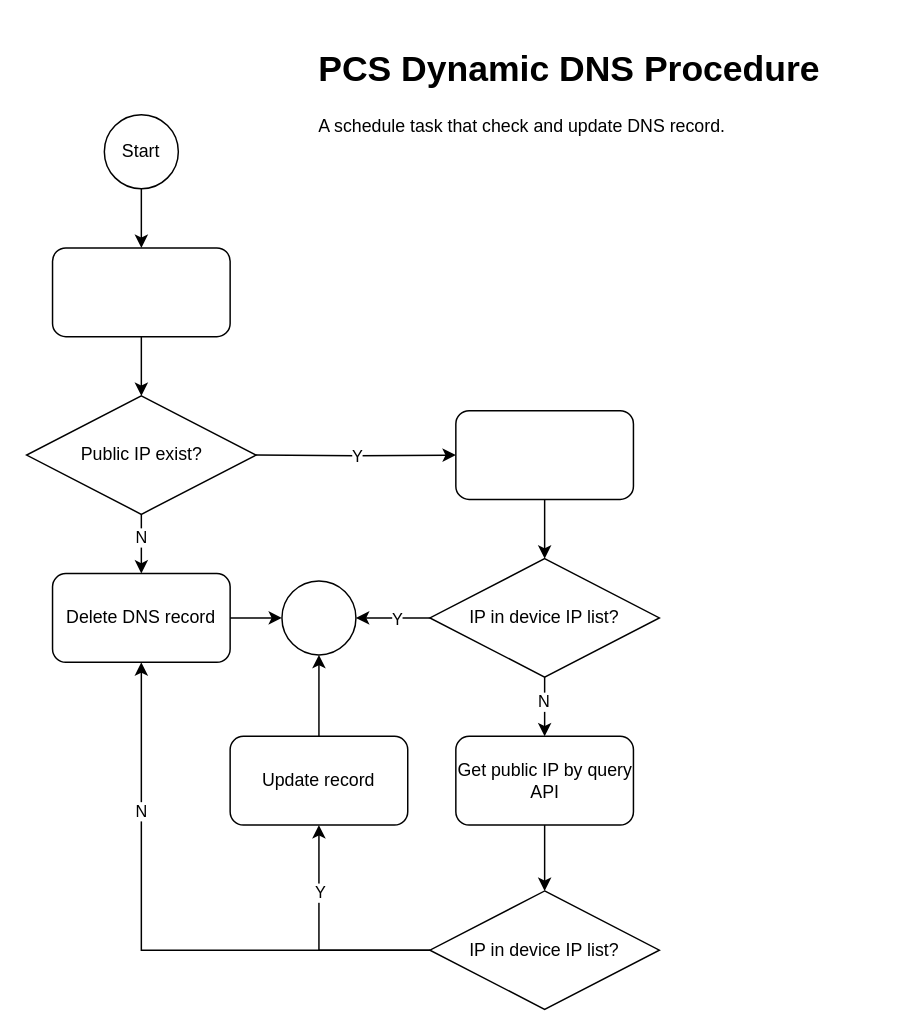
Image size: 898x1035. Some labels were removed from this diagram. The shapes that lost their labels are listed below. From the top down, each one's centre as x and y in pixels, then its label:
At pixel 140 291: "Get all IP addresses of current device".
At pixel 543 454: "Get(Resolve) IP of device's domain".
At pixel 318 617: "End".
